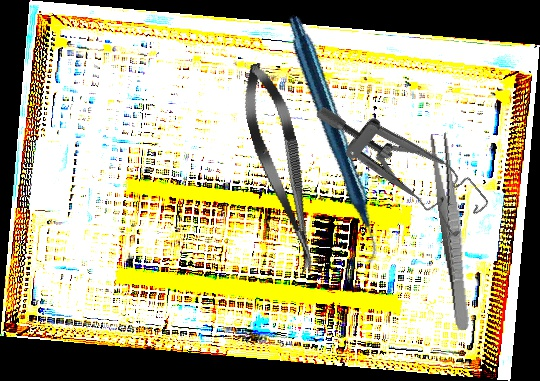Dressing Forceps: (427, 132, 477, 331)
Handpiece: (226, 14, 437, 266)
Micro Scissor: (233, 58, 331, 279)
Speculum: (313, 64, 493, 257)
